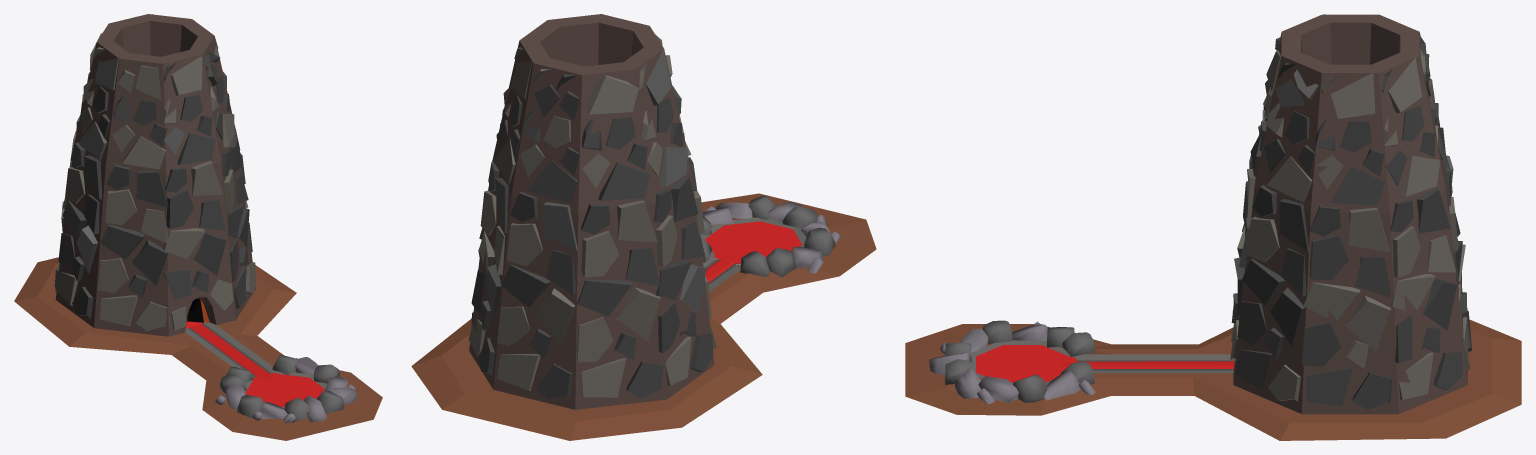
The model's file is iron_foundry_2_stone.fbx.
3 renders of one model, left to right at view 1: azimuth 30°, elevation 25°; view 2: azimuth 150°, elevation 25°; view 3: azimuth 270°, elevation 25°, orthographic. The views are drawn at different scales.
Parts seen in each view (by area): view 1: Circle.003, Circle.005, Circle.004; view 2: Circle.003, Circle.005; view 3: Circle.003, Circle.005, Circle.004.
Part boxes in pixels (bbox=[...]): Circle.003: bbox=[14, 14, 382, 440]; Circle.005: bbox=[245, 373, 324, 406]; Circle.004: bbox=[190, 324, 273, 380]; Circle.003: bbox=[411, 14, 876, 440]; Circle.005: bbox=[705, 218, 802, 264]; Circle.003: bbox=[905, 14, 1521, 440]; Circle.005: bbox=[976, 344, 1076, 383]; Circle.004: bbox=[1061, 361, 1234, 368].
Bounding box in the file's own units: 87.94 × 101 × 165.
